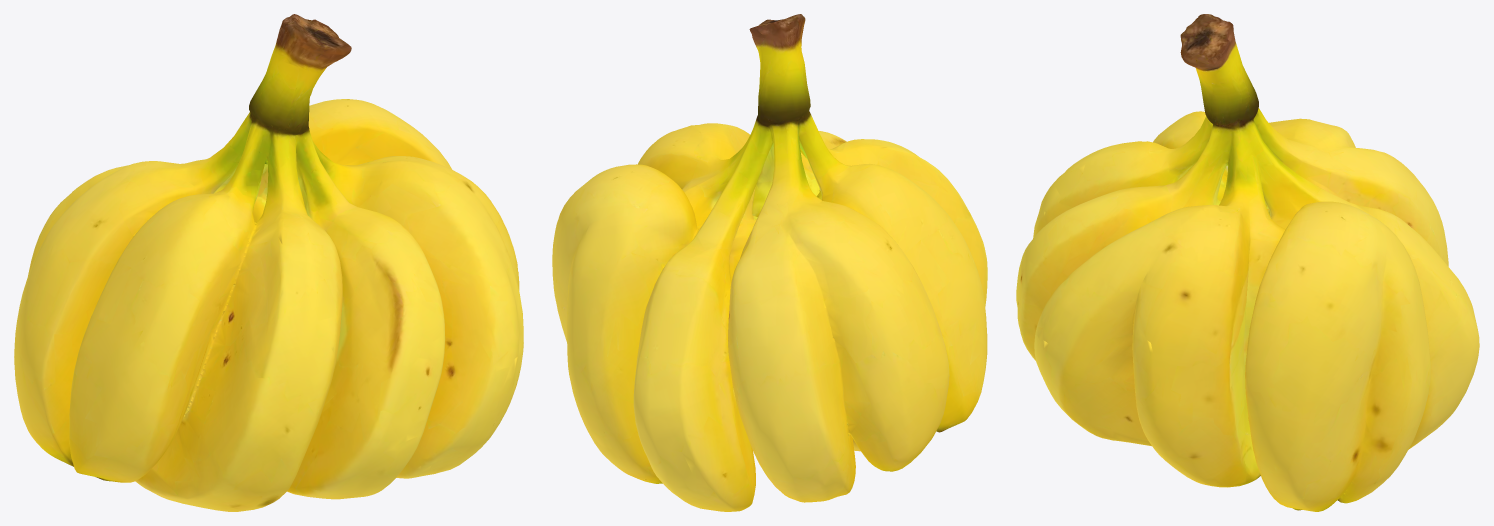
File: banana.glb
3 renders of one model, left to right at view 1: azimuth 30°, elevation 25°; view 2: azimuth 150°, elevation 25°; view 3: azimuth 270°, elevation 25°, orthographic. The views are drawn at different scales.
Visible parts, largest first — view 1: Mesh_0; view 2: Mesh_0; view 3: Mesh_0.
Boxes of the visible parts, x1,y1,x2,y2 form: Mesh_0: [14, 14, 523, 511]; Mesh_0: [552, 14, 987, 511]; Mesh_0: [1016, 14, 1479, 511].
Bounding box in the file's own units: 0.1812 × 0.2 × 0.1868.
1 material, 1 textured.
